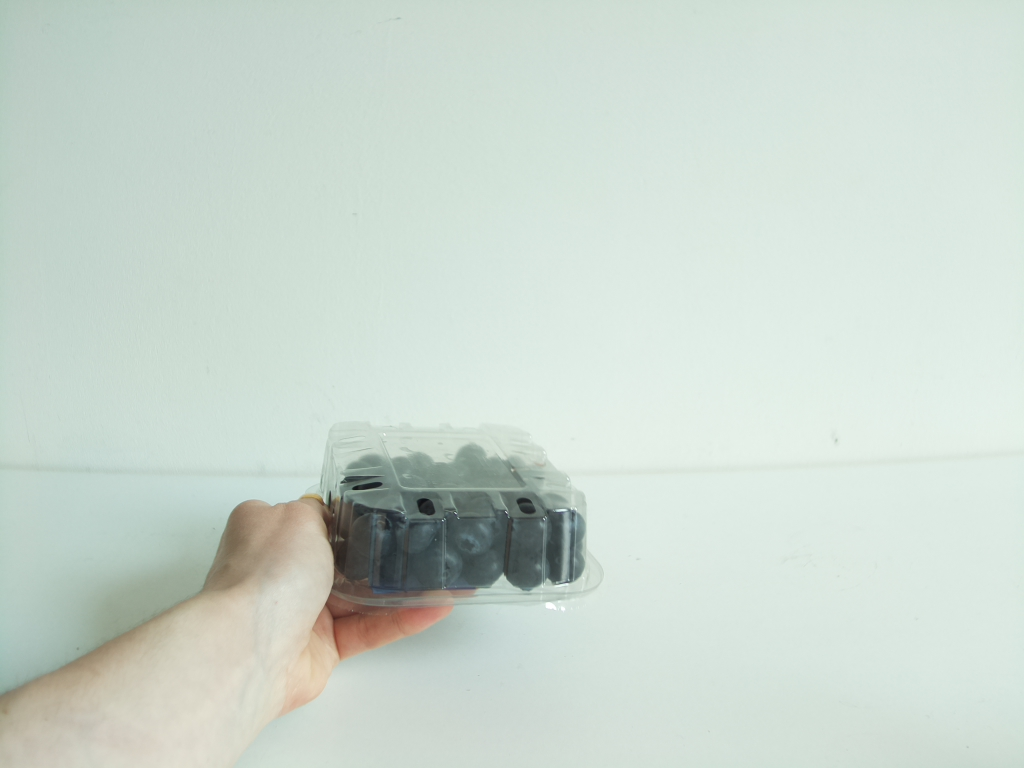soft-fruit: (319, 419, 603, 603)
